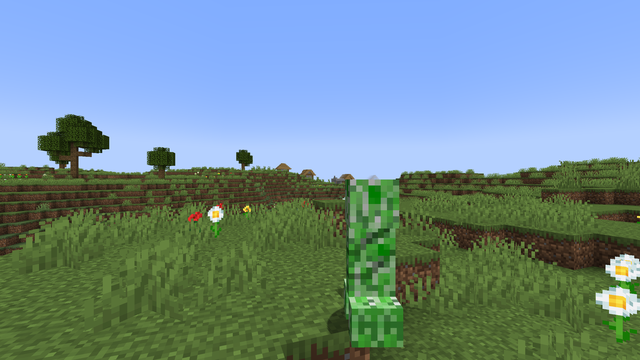creepers: (334, 171, 409, 347)
